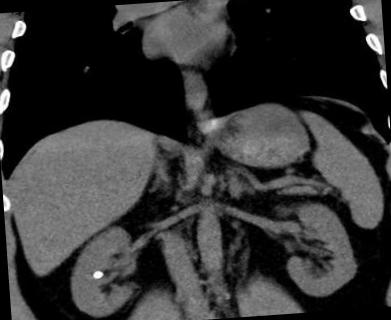Tas_Var: (90, 266, 105, 284)
